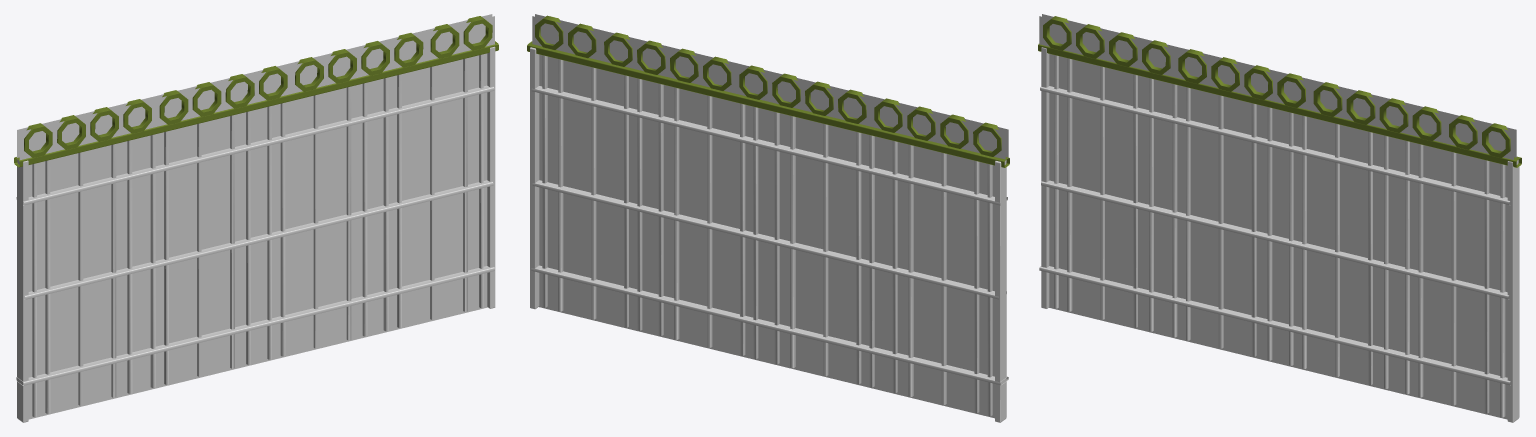
File: M_Serre_Door_03.fbx
The picture shows the model from 3 angles, left to right: view 1: azimuth 30°, elevation 25°; view 2: azimuth 150°, elevation 25°; view 3: azimuth 330°, elevation 25°; orthographic projection.
Visible parts, largest first — view 1: Plane.004, Cube.004, Cube; view 2: Plane.004, Cube.004, Cube; view 3: Plane.004, Cube.004, Cube.
Part boxes in pixels (left/top/right/bottom): Plane.004: left=28, top=23, right=487, bottom=419; Cube.004: left=16, top=54, right=494, bottom=417; Cube: left=14, top=14, right=498, bottom=422; Plane.004: left=539, top=23, right=996, bottom=418; Cube.004: left=531, top=55, right=1008, bottom=416; Cube: left=527, top=14, right=1009, bottom=422; Plane.004: left=1049, top=24, right=1507, bottom=419; Cube.004: left=1039, top=55, right=1510, bottom=417; Cube: left=1038, top=14, right=1521, bottom=422.
Size of the model in its own units: 889 by 518 by 25.57.
